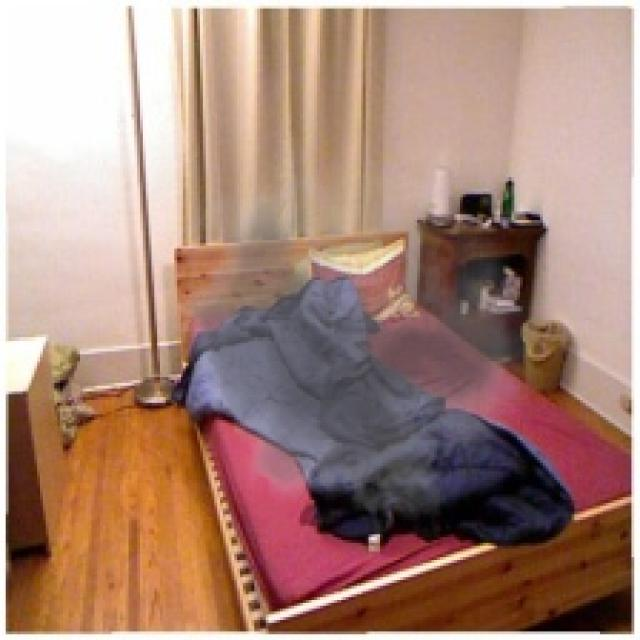smoke: (163, 129, 537, 537)
